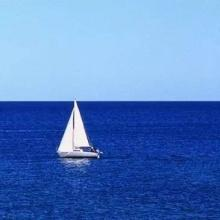fanchuan: (56, 100, 102, 162)
